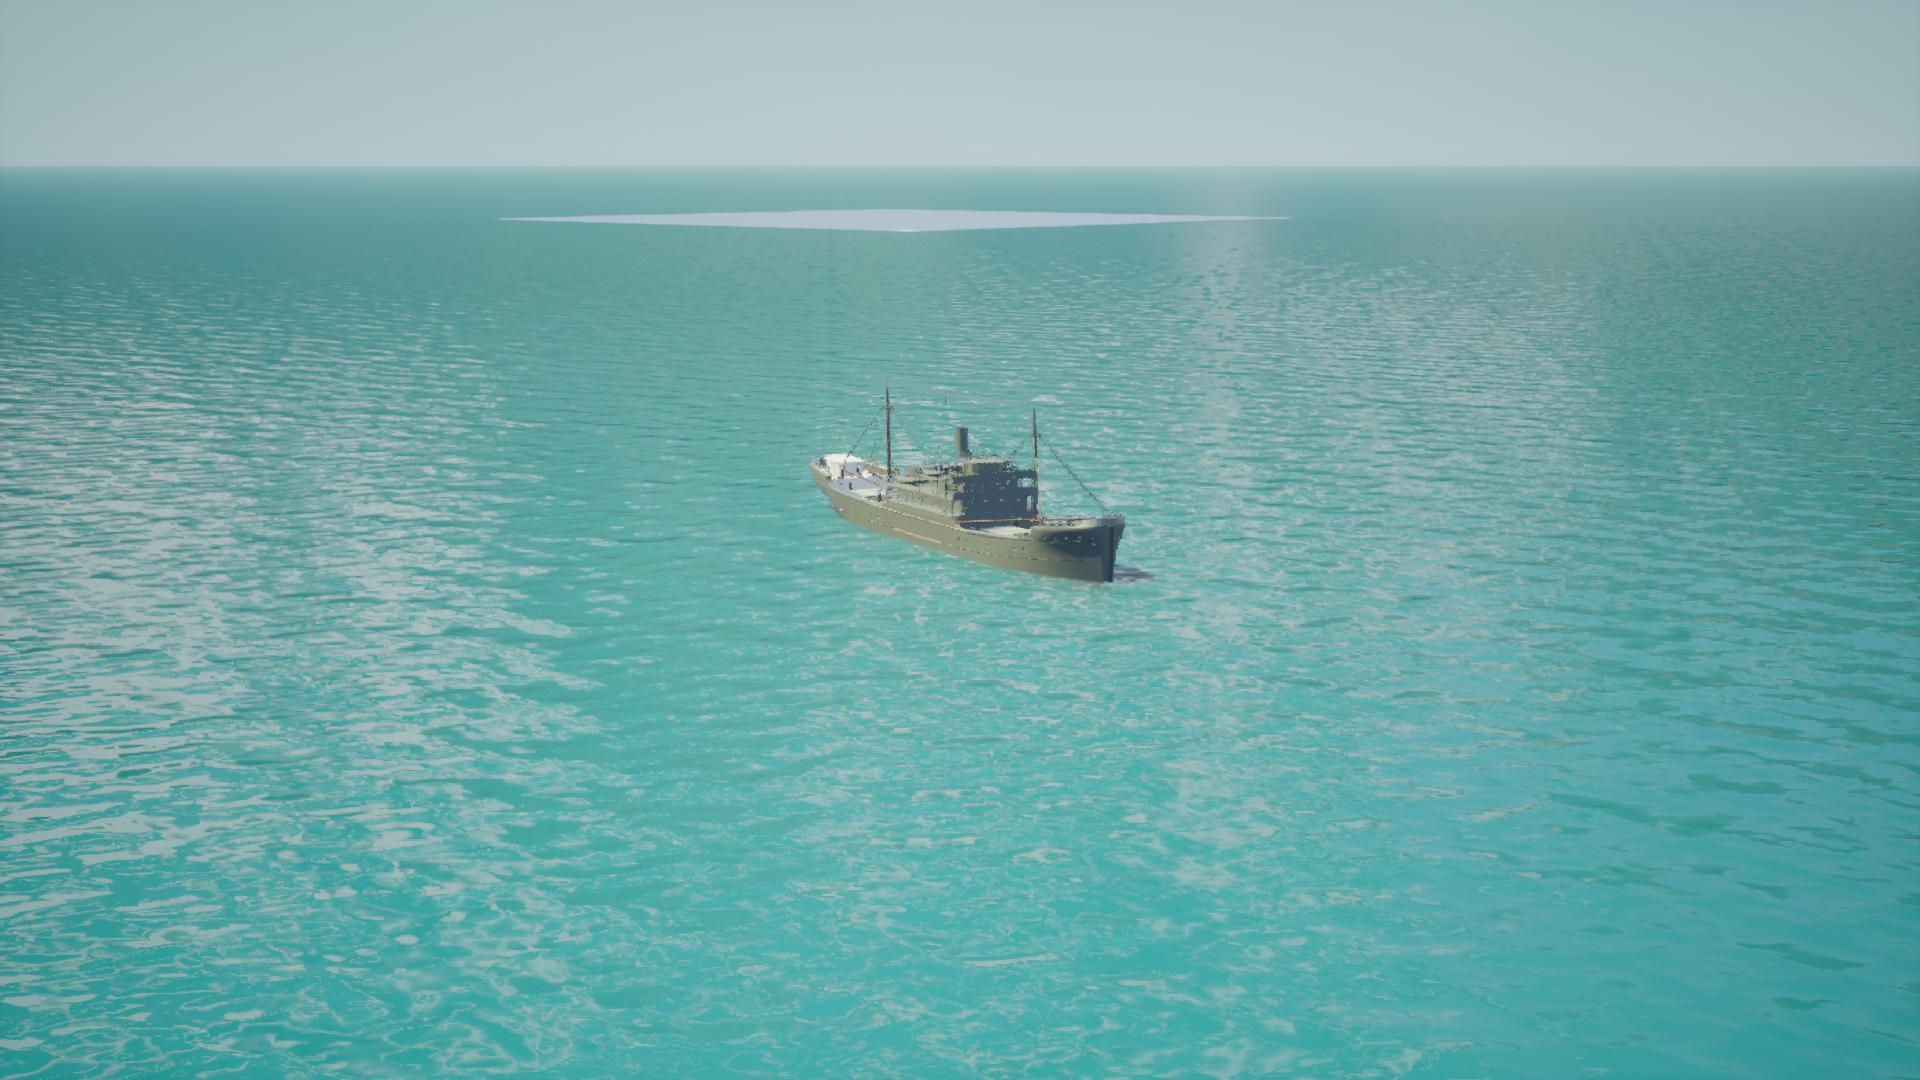Fishing Boat: (810, 397, 1135, 591)
